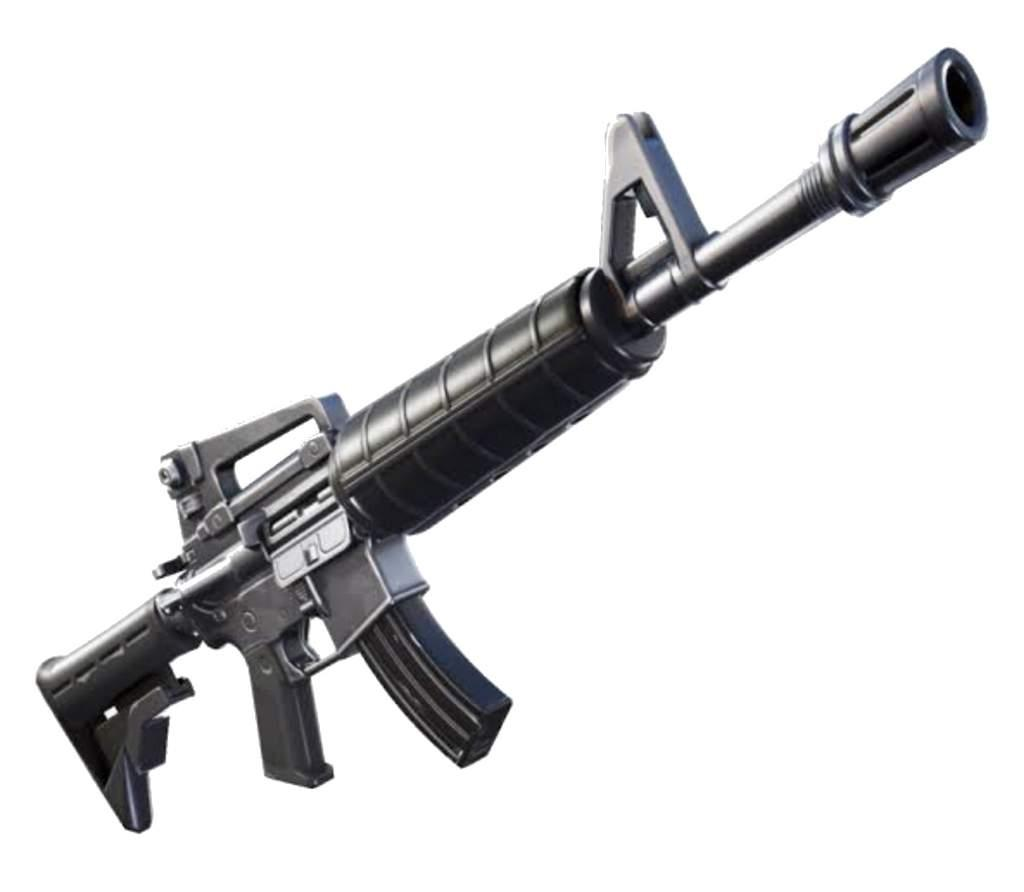larga: (36, 47, 989, 837)
